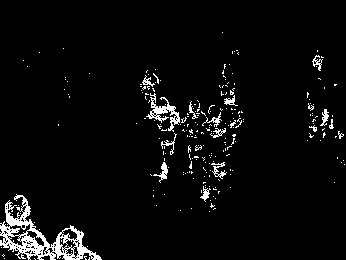person: (1, 193, 56, 258), (196, 104, 231, 206), (148, 95, 180, 181), (179, 98, 206, 175)
